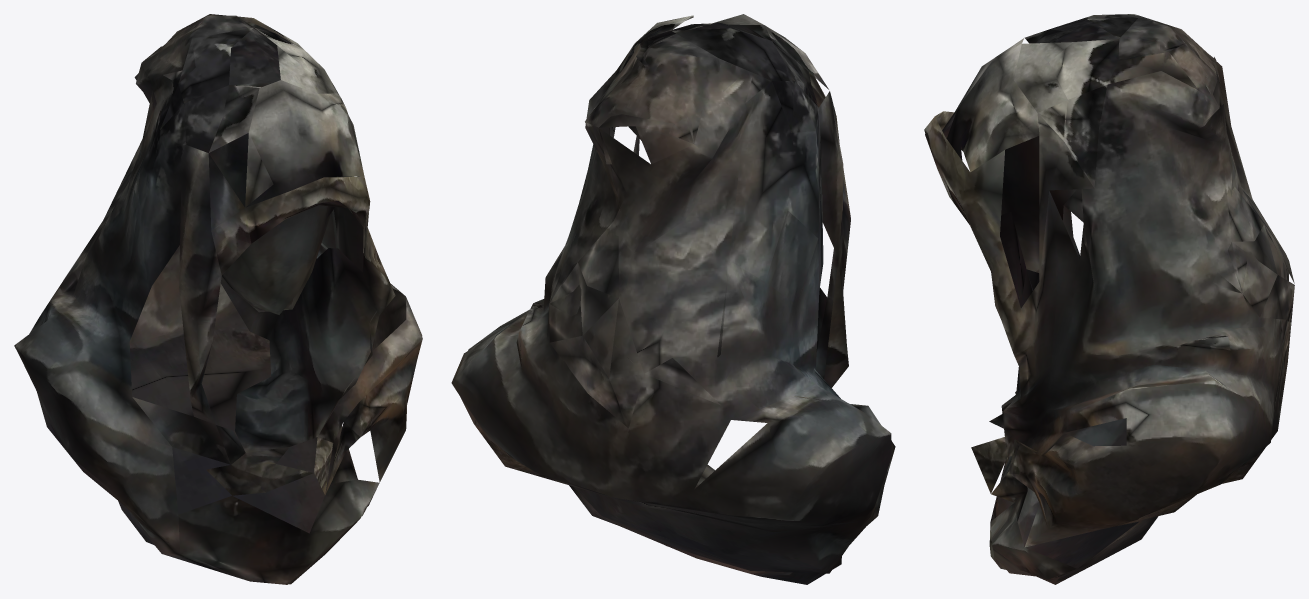
The model's file is haunted-rock-2.glb.
The picture shows the model from 3 angles, left to right: view 1: azimuth 30°, elevation 25°; view 2: azimuth 150°, elevation 25°; view 3: azimuth 270°, elevation 25°; orthographic projection. The views are drawn at different scales.
Parts seen in each view (by area): view 1: geometry_0; view 2: geometry_0; view 3: geometry_0.
Boxes of the visible parts, box(x1,y1,x2,y2) form: geometry_0: box(14, 14, 422, 584); geometry_0: box(451, 14, 895, 584); geometry_0: box(924, 14, 1294, 584).
Bounding box in the file's own units: 0.702 × 0.9855 × 0.6041.
Materials: 1 (1 with a texture image).
